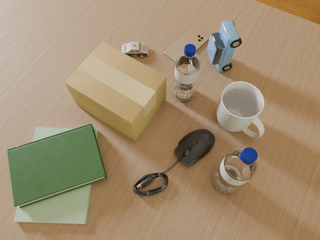book: (7, 124, 107, 208), (14, 127, 98, 224)
bottle: (213, 148, 258, 193), (173, 44, 200, 101)
box: (65, 42, 167, 141)
cup: (217, 82, 264, 138)
mouse: (175, 129, 215, 166)
phone: (164, 27, 209, 62)
toy_car: (207, 20, 242, 72), (122, 42, 149, 58)
